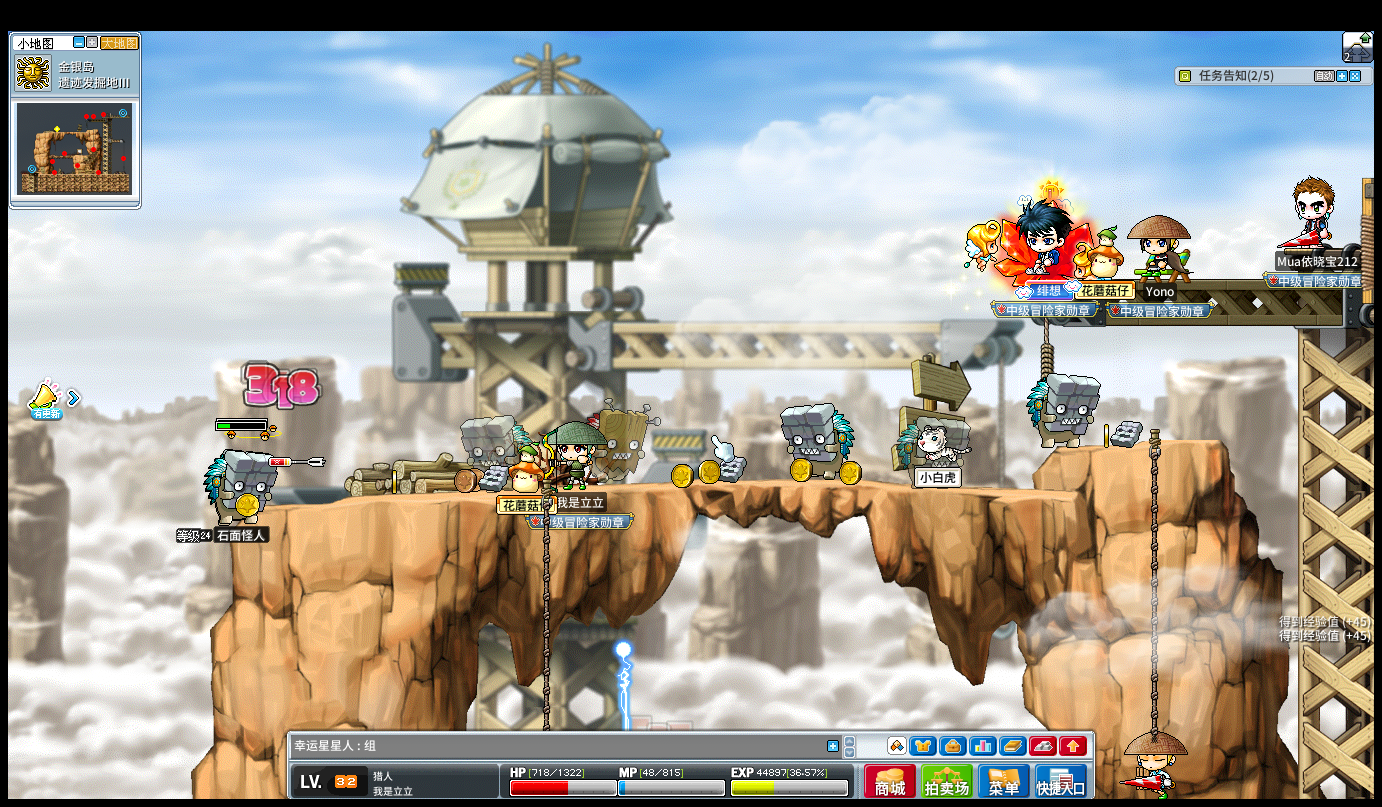floor: (230, 475, 1122, 504), (1065, 435, 1225, 451)
monster: (780, 402, 855, 483), (1025, 370, 1100, 449), (590, 401, 660, 485), (458, 415, 527, 491), (203, 449, 277, 515)
rope: (1145, 427, 1161, 732), (538, 481, 551, 807), (539, 479, 551, 699), (1146, 633, 1160, 737)
